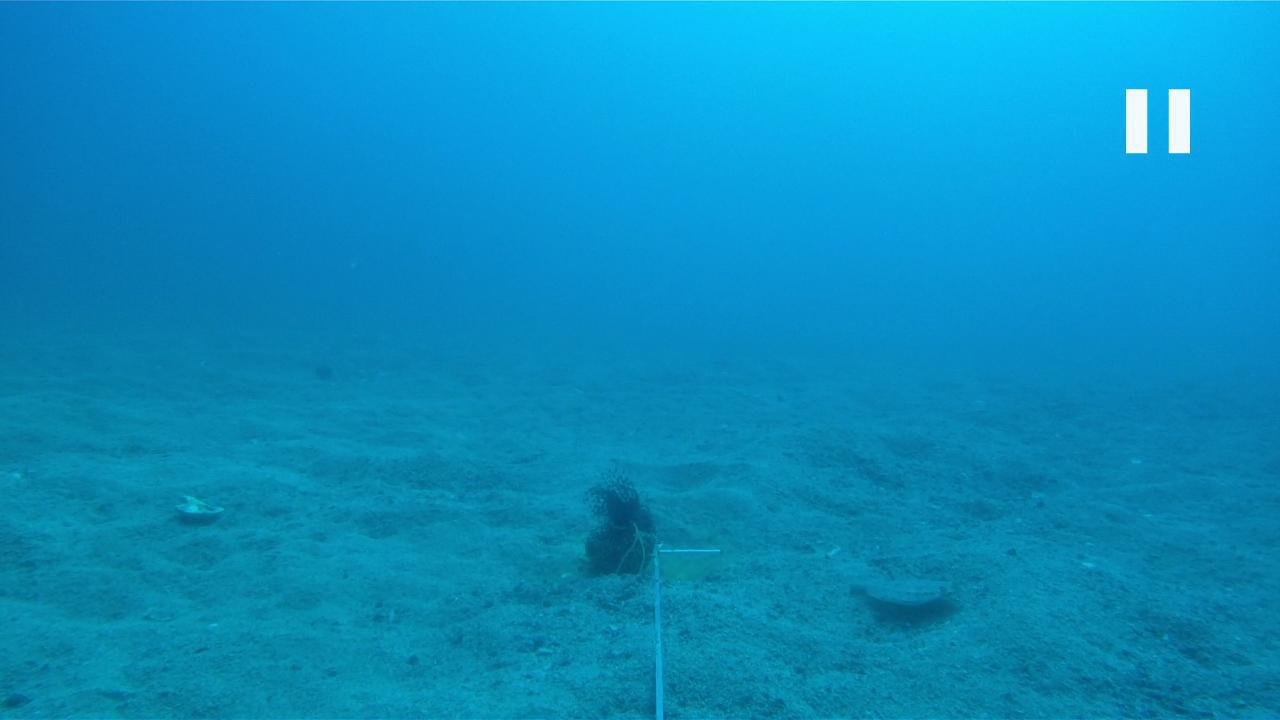bothus: (844, 575, 962, 612)
